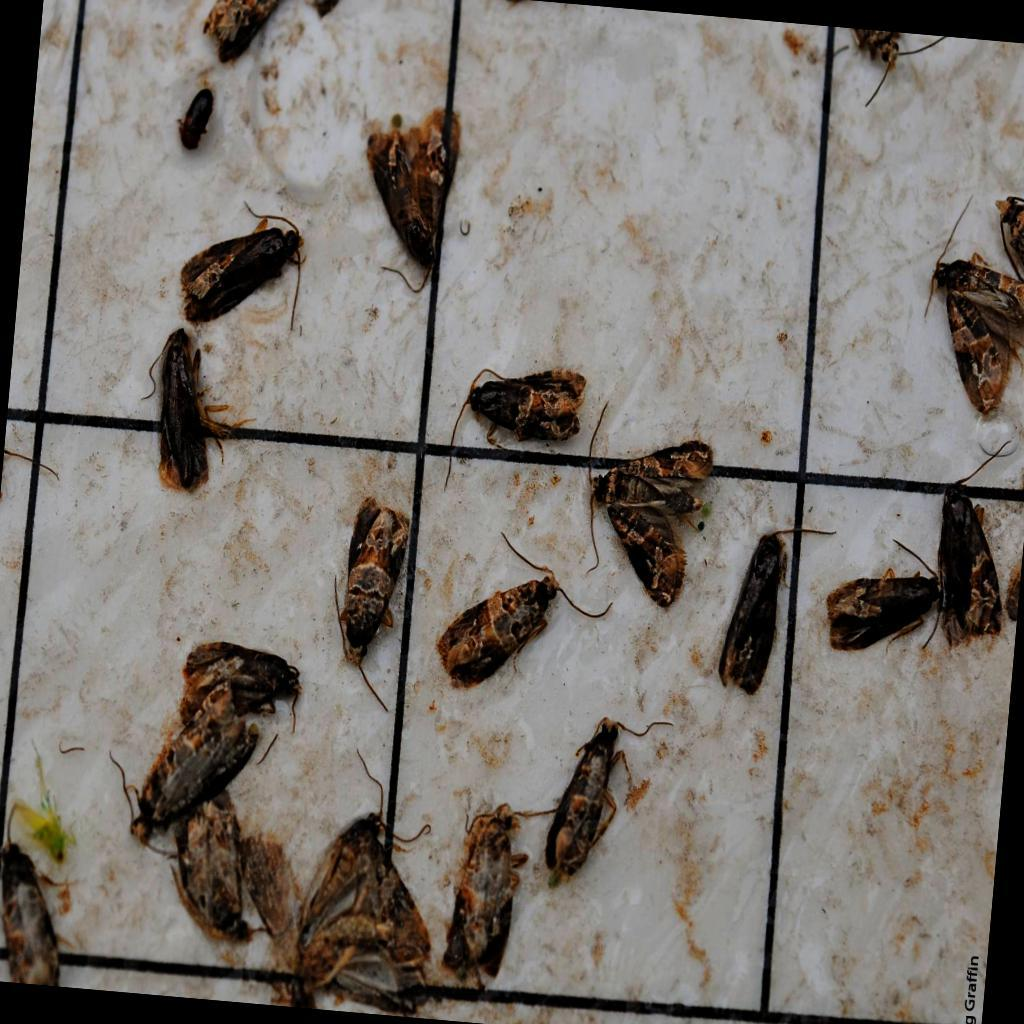grape_moth: (296, 744, 438, 998), (430, 522, 618, 704), (100, 666, 266, 871), (574, 392, 720, 612), (908, 187, 1023, 423), (538, 704, 676, 890), (439, 794, 563, 992), (712, 514, 838, 702), (352, 98, 471, 296), (131, 322, 257, 501), (440, 354, 590, 500), (172, 190, 314, 336), (319, 495, 414, 713), (158, 788, 282, 952), (928, 433, 1020, 648), (820, 524, 950, 663), (0, 796, 80, 981), (172, 633, 306, 736), (841, 32, 955, 113), (196, 0, 296, 71), (984, 181, 1023, 296)
